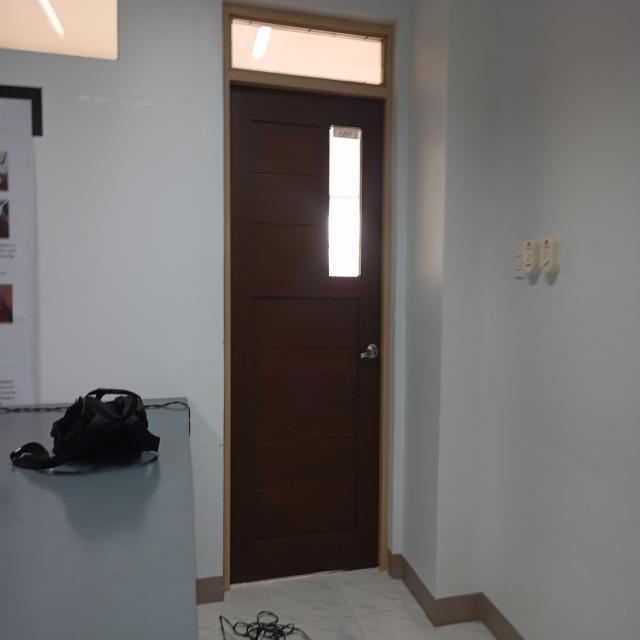door: (217, 1, 401, 598)
